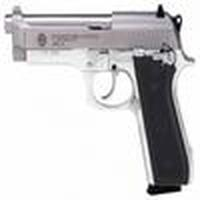gun: (3, 5, 199, 196)
